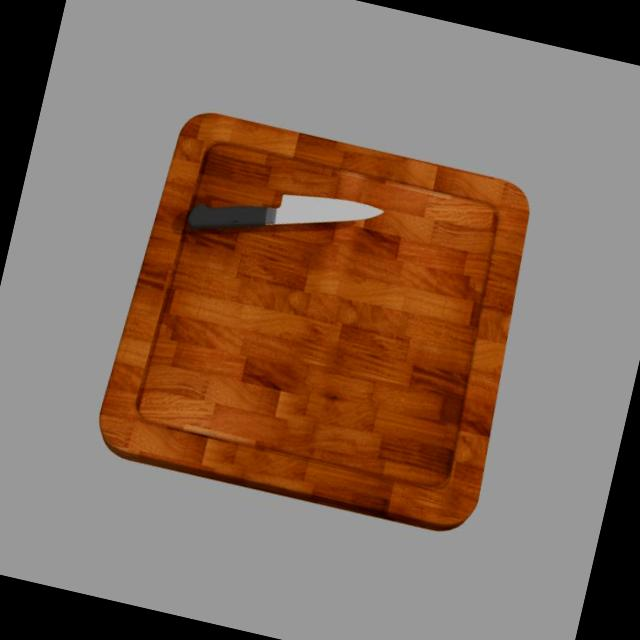knife: (184, 190, 270, 246)
